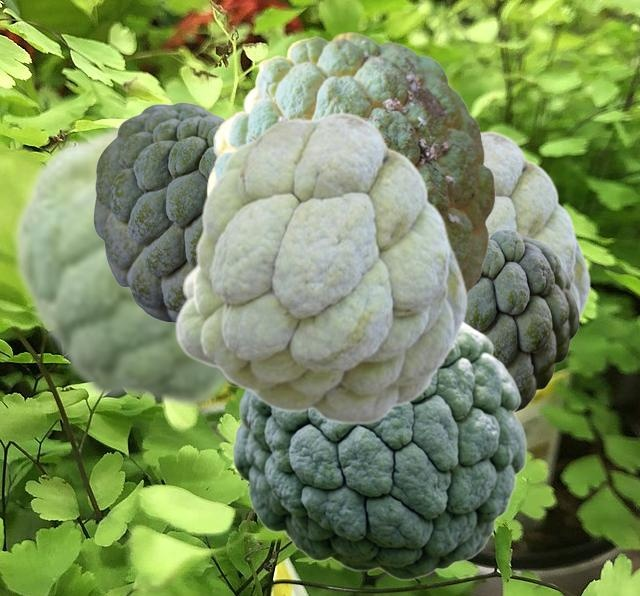atis: (174, 111, 467, 424), (206, 32, 494, 298), (232, 320, 526, 580), (9, 119, 242, 411), (93, 102, 224, 323), (482, 130, 590, 323), (465, 229, 578, 412)
